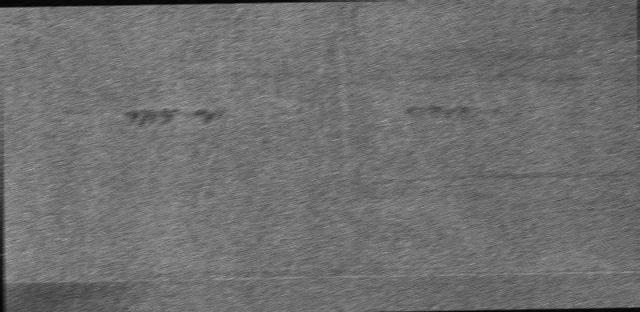welding_line: (1, 257, 640, 294)
